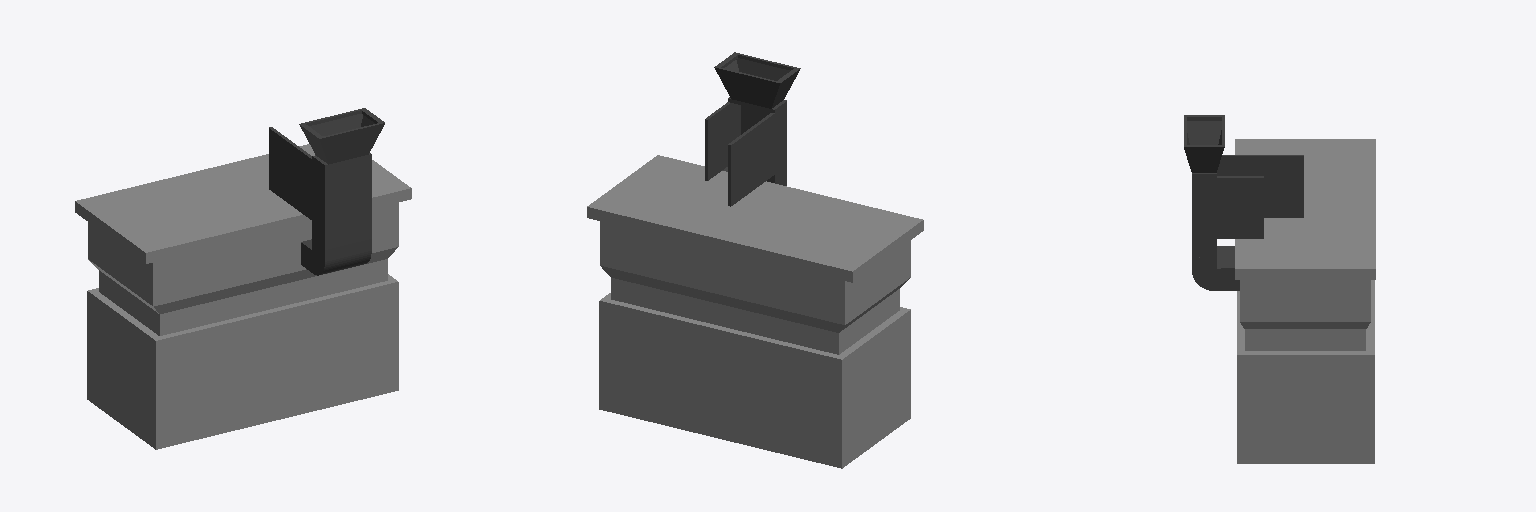
File: add_gong_of_taiwan.obj
3 renders of one model, left to right at view 1: azimuth 30°, elevation 25°; view 2: azimuth 150°, elevation 25°; view 3: azimuth 270°, elevation 25°, orthographic.
Visible parts, largest first — view 1: ___, ___.1, __.1; view 2: ___, ___.1; view 3: ___, ___.1, __.1.
Boxes of the visible parts, box(x1,y1,x2,y2) form: ___: box(75, 144, 411, 449); ___.1: box(269, 108, 384, 249); __.1: box(301, 239, 371, 275); ___: box(587, 155, 923, 468); ___.1: box(705, 52, 800, 206); ___: box(1235, 139, 1375, 463); ___.1: box(1184, 115, 1303, 257); __.1: box(1192, 246, 1239, 290).
Size of the model in its own units: 794 by 848 by 499.